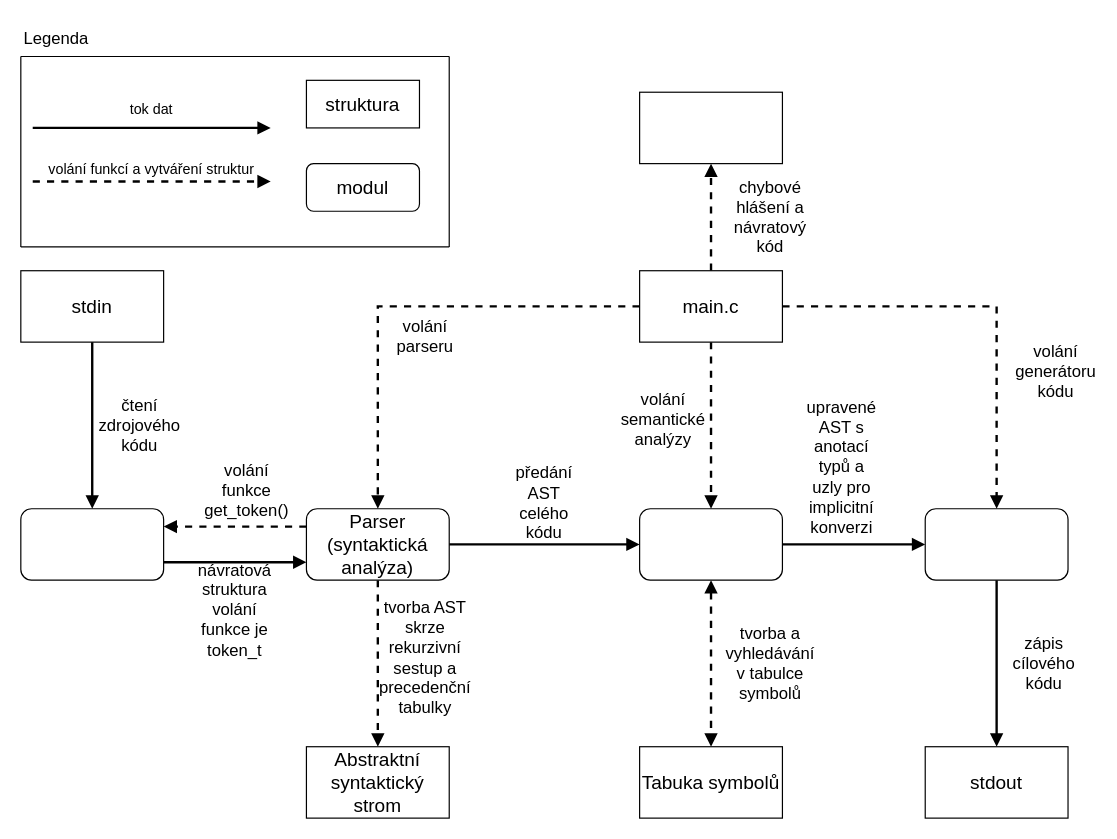
Image size: 1117x839. Some labels were removed from this diagram. Each missing label, with the box of its shape:
Generátor kódu: (924, 508, 1068, 580)
Scanner (lexikální analýza ): (20, 508, 164, 580)
Semantická analýza: (638, 508, 782, 580)
stderr: (638, 91, 782, 164)
